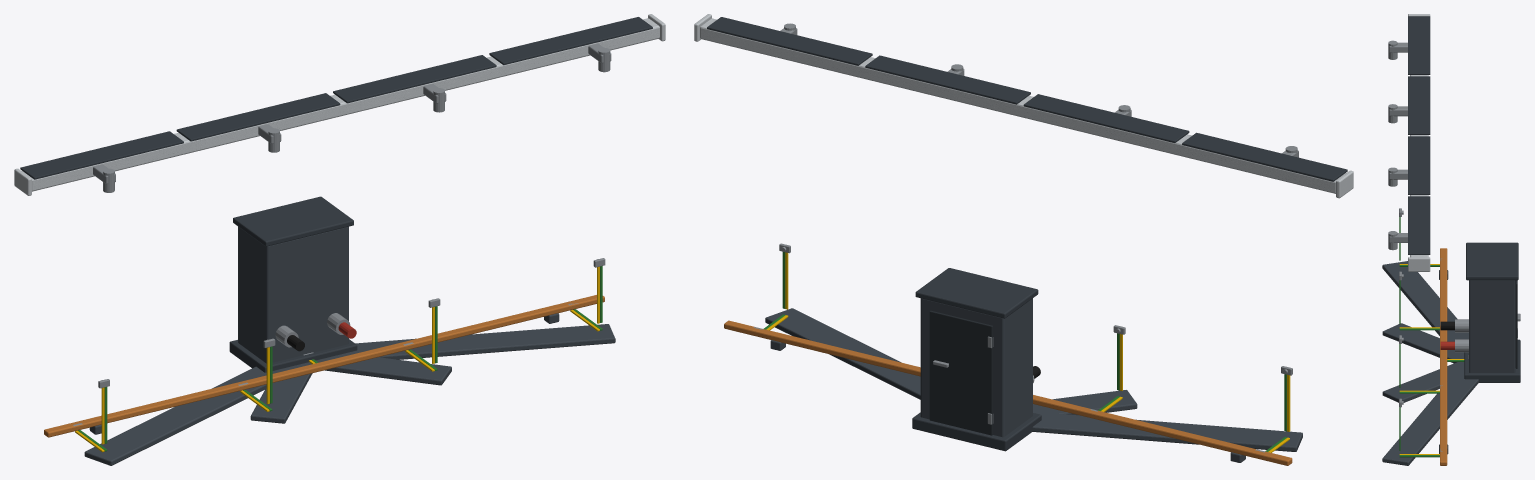
The model's file is st-cables.glb.
3 renders of one model, left to right at view 1: azimuth 30°, elevation 25°; view 2: azimuth 150°, elevation 25°; view 3: azimuth 270°, elevation 25°, orthographic. The views are drawn at different scales.
Parts seen in each view (by area): view 1: JunctionBox, CableTray, GroundBusbar, TrenchCover_4, TrenchCover_1, JunctionBox_TopCap, CableTray_Lid_3, CableTray_Lid_2, CableTray_Lid_1, CableTray_Lid_4, TrenchCover_3, TrenchCover_2 (+1 smaller); view 2: CableTray, JunctionBox_Door, JunctionBox, GroundBusbar, TrenchCover_1, JunctionBox_TopCap, TrenchCover_4, CableTray_Lid_2, CableTray_Lid_3, CableTray_Lid_1, CableTray_Lid_4, JunctionBox_Base (+1 smaller); view 3: JunctionBox, TrenchCover_4, JunctionBox_TopCap, TrenchCover_1, GroundBusbar, CableTray_Lid_1, CableTray_Lid_2, CableTray_Lid_3, CableTray_Lid_4, TrenchCover_3, TrenchCover_2, JunctionBox_Base (+9 smaller).
Boxes of the visible parts, x1,y1,x2,y2 form: JunctionBox: (238,226,348,363); CableTray: (22,18,659,191); GroundBusbar: (44,295,604,437); TrenchCover_4: (331,324,615,359); TrenchCover_1: (84,366,295,465); JunctionBox_TopCap: (233,196,353,246); CableTray_Lid_3: (333,55,496,103); CableTray_Lid_2: (176,93,340,141); CableTray_Lid_1: (20,131,183,179); CableTray_Lid_4: (489,17,652,65); TrenchCover_3: (316,357,451,385); TrenchCover_2: (250,362,312,423); CableTray: (700,18,1345,193); JunctionBox_Door: (929,310,992,435); JunctionBox: (920,298,1032,437); GroundBusbar: (724,320,1292,465); TrenchCover_1: (1032,413,1302,451); JunctionBox_TopCap: (915,268,1038,318); TrenchCover_4: (765,308,920,399); CableTray_Lid_2: (1023,94,1189,142); CableTray_Lid_3: (865,55,1030,104); CableTray_Lid_1: (1182,132,1347,181); CableTray_Lid_4: (707,17,872,65); JunctionBox_Base: (912,412,1041,451); JunctionBox: (1469,280,1515,372); TrenchCover_4: (1382,368,1478,465); JunctionBox_TopCap: (1466,242,1518,280); TrenchCover_1: (1382,261,1468,353); GroundBusbar: (1440,248,1447,465); CableTray_Lid_1: (1408,16,1430,74); CableTray_Lid_2: (1408,76,1430,134); CableTray_Lid_3: (1408,136,1430,194); CableTray_Lid_4: (1408,196,1430,254); TrenchCover_3: (1382,362,1464,402); TrenchCover_2: (1382,323,1464,363); JunctionBox_Base: (1464,339,1520,382).
Size of the model in its own units: 6.18 by 2.7 by 1.47.
Materials: 12 (1 with a texture image).
